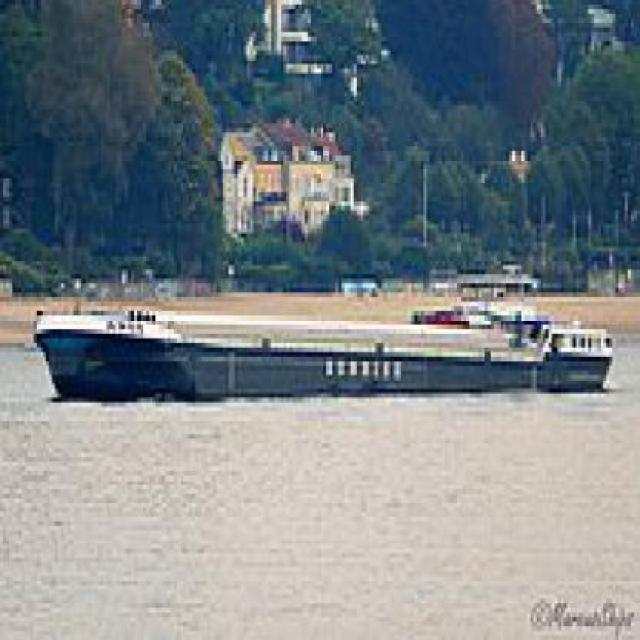container: (22, 267, 620, 413)
